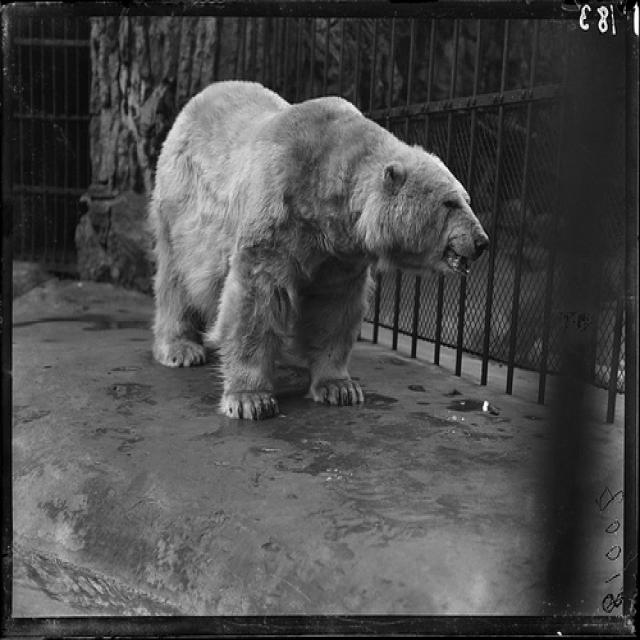Bear: (138, 53, 490, 433)
